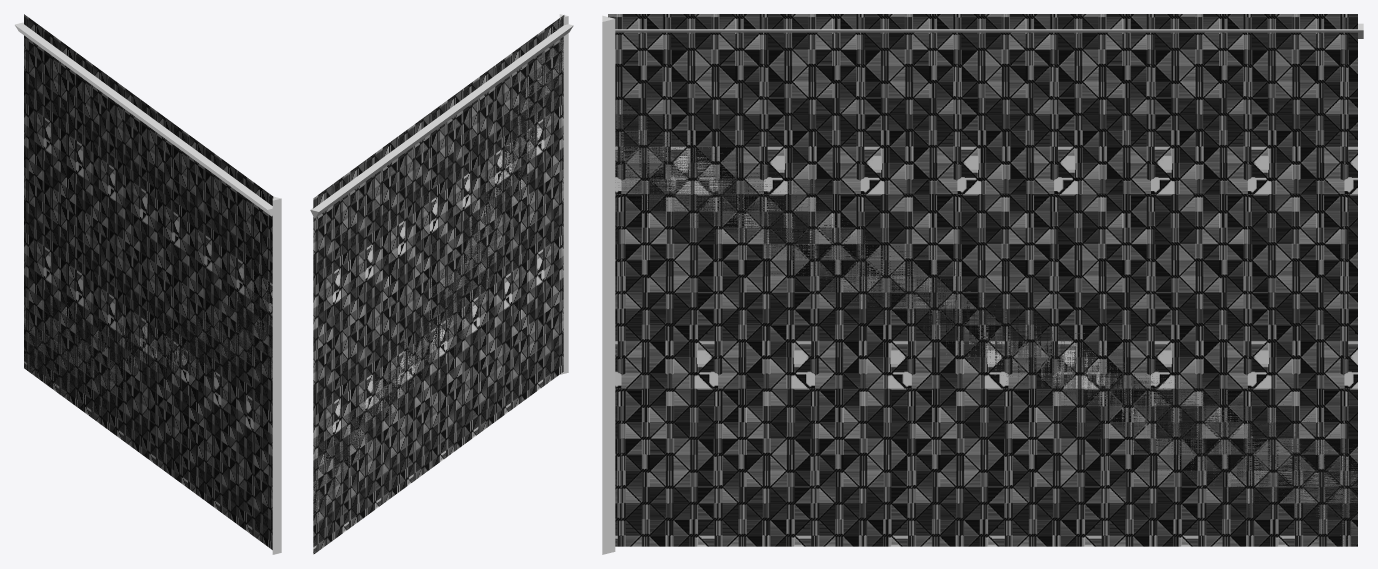
File: chainlink.fbx
3 renders of one model, left to right at view 1: azimuth 30°, elevation 25°; view 2: azimuth 150°, elevation 25°; view 3: azimuth 270°, elevation 25°, orthographic. The views are drawn at different scales.
Visible parts, largest first — view 1: Chainlink_wall1; view 2: Chainlink_wall1; view 3: Chainlink_wall1.
Boxes of the visible parts, bbox=[...] form: Chainlink_wall1: bbox=[15, 14, 281, 554]; Chainlink_wall1: bbox=[310, 14, 573, 554]; Chainlink_wall1: bbox=[602, 14, 1363, 554].
Bounding box in the file's own units: 8.29 × 201 × 259.
Materials: 2 (1 with a texture image).
